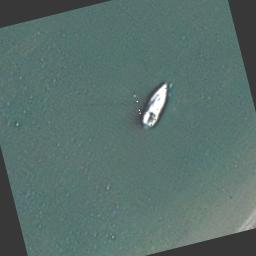boat: (133, 81, 179, 134)
